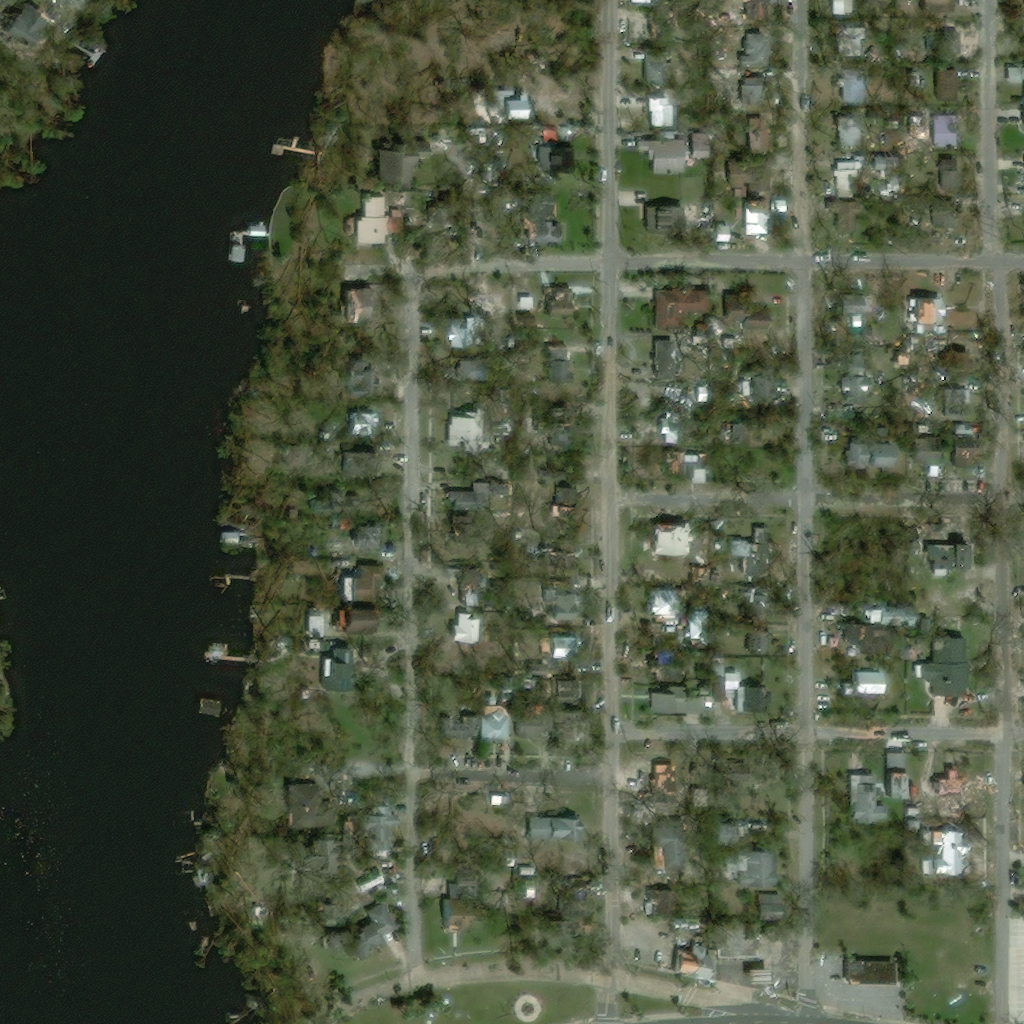destroyed: (553, 896, 588, 929), (722, 0, 760, 28), (926, 519, 962, 539), (646, 18, 674, 41), (471, 534, 491, 561), (209, 565, 237, 579), (174, 871, 200, 885), (204, 643, 224, 659), (241, 304, 252, 316), (215, 511, 228, 521), (380, 555, 398, 562)
major_damage: (741, 968, 777, 1000), (542, 285, 571, 316), (934, 769, 966, 796)
minor_damage: (323, 902, 394, 960), (919, 636, 968, 694), (373, 139, 428, 187), (649, 285, 707, 327), (637, 130, 689, 175), (357, 198, 403, 246), (848, 771, 888, 823), (364, 800, 399, 859), (924, 830, 967, 873), (722, 670, 765, 713), (722, 294, 778, 327), (650, 684, 712, 713), (711, 923, 759, 957), (661, 452, 710, 485), (734, 850, 776, 886), (741, 198, 781, 234), (519, 211, 561, 244), (673, 946, 712, 981), (627, 51, 667, 85), (524, 816, 580, 840), (651, 522, 690, 555), (478, 697, 508, 739), (844, 959, 894, 984), (910, 298, 943, 335), (447, 416, 485, 448), (341, 287, 375, 322), (2, 1, 35, 37), (844, 442, 893, 466), (950, 424, 976, 469), (514, 705, 550, 737), (450, 569, 482, 605), (835, 162, 866, 198), (316, 656, 345, 694), (925, 543, 967, 569), (841, 671, 888, 693), (648, 655, 686, 680), (392, 624, 419, 659), (533, 421, 570, 445), (834, 202, 861, 234), (744, 119, 770, 151), (932, 116, 958, 148), (455, 314, 482, 344), (499, 93, 531, 118), (662, 411, 687, 442), (549, 358, 581, 382), (911, 437, 938, 465), (540, 141, 561, 177), (558, 710, 584, 739), (440, 903, 464, 933), (870, 154, 899, 178), (647, 96, 671, 125), (527, 193, 555, 217), (938, 68, 959, 100), (351, 537, 381, 559), (932, 196, 952, 229), (832, 116, 853, 147), (342, 576, 367, 602), (746, 630, 771, 656), (550, 637, 579, 658), (336, 607, 367, 625), (450, 716, 477, 736), (358, 371, 381, 394), (646, 600, 679, 616), (886, 771, 905, 798), (949, 388, 968, 415), (740, 82, 763, 104), (308, 608, 324, 637), (645, 206, 661, 234), (712, 161, 725, 195), (203, 699, 227, 717), (858, 603, 879, 623), (553, 485, 574, 504), (886, 750, 908, 768), (1001, 65, 1023, 83), (540, 470, 579, 480), (229, 243, 247, 263), (933, 35, 957, 50), (714, 226, 734, 243), (735, 379, 752, 398), (288, 782, 308, 798), (546, 343, 567, 358), (218, 532, 241, 545), (350, 265, 373, 277), (728, 423, 750, 435), (245, 225, 265, 238), (898, 612, 914, 626), (724, 69, 745, 79), (542, 127, 558, 139), (739, 56, 759, 65), (310, 643, 330, 652), (518, 296, 534, 307), (920, 619, 929, 638), (895, 353, 909, 365), (741, 45, 755, 55), (920, 424, 932, 435), (348, 225, 358, 235), (930, 467, 940, 477)
unclassified: (604, 329, 655, 363), (1009, 110, 1023, 126), (1010, 160, 1023, 170)
